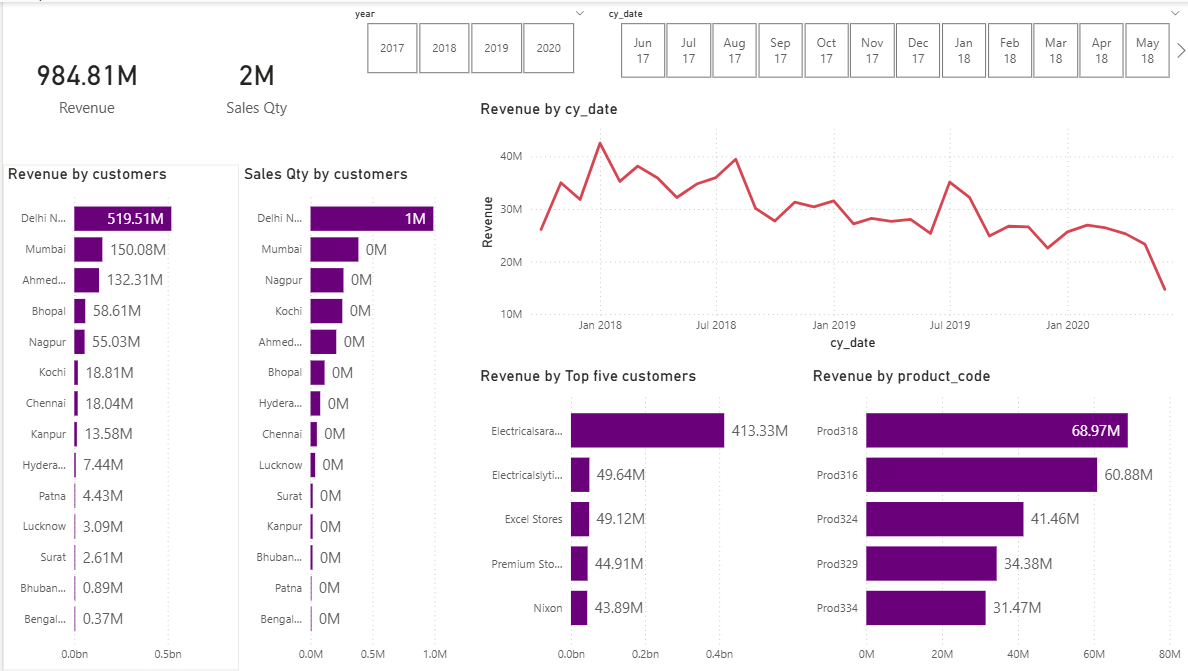

This screenshot's page, from the dashboard's own definition file:
{"tool":"powerbi","page":{"name":"Page 1","canvas":[1280,720],"ordinal":0},"visuals":[{"type":"card","fields":{"Values":["base measures.Revenue"]},"box":[0,1.2,181,173.6],"z":0},{"type":"card","fields":{"Values":["base measures.Sales Qty"]},"box":[181,1.2,185.9,173.6],"z":1000},{"type":"clusteredBarChart","fields":{"Y":["base measures.Revenue"],"Category":["sales markets.markets_name"]},"box":[0,174.9,254.3,545.4],"z":2000},{"type":"barChart","fields":{"Y":["base measures.Sales Qty"],"Category":["sales markets.markets_name"]},"box":[254.3,174.9,254.3,545.4],"z":3000},{"type":"slicer","fields":{"Values":["sales date.cy_date"]},"box":[639.5,1.2,640.8,86.8],"z":4000},{"type":"slicer","fields":{"Values":["sales date.year"]},"box":[366.8,1.2,272.7,81.9],"z":5000},{"type":"clusteredBarChart","fields":{"Y":["base measures.Revenue"],"Category":["sales customers.custmer_name"]},"box":[508.7,391.3,358.3,328.9],"z":6000},{"type":"clusteredBarChart","fields":{"Y":["base measures.Revenue"],"Category":["sales transactions.product_code"]},"box":[867,391.3,413.3,328.9],"z":7000},{"type":"lineChart","fields":{"Y":["base measures.Revenue"],"Category":["sales date.cy_date"]},"box":[508.7,105.2,771.6,275.1],"z":8000}]}

Visuals, with their boxes in screenshot pixels (x1, y1, x2, y2), scaled from the page's 1280x720 canvas onto the 1188x671 screenshot:
card - base measures.Revenue: 0 1 168 163
card - base measures.Sales Qty: 168 1 341 163
clusteredBarChart - base measures.Revenue x sales markets.markets_name: 0 163 236 670
barChart - base measures.Sales Qty x sales markets.markets_name: 236 163 472 670
slicer - sales date.cy_date: 594 1 1187 82
slicer - sales date.year: 340 1 594 77
clusteredBarChart - base measures.Revenue x sales customers.custmer_name: 472 365 805 670
clusteredBarChart - base measures.Revenue x sales transactions.product_code: 805 365 1187 670
lineChart - base measures.Revenue x sales date.cy_date: 472 98 1187 354
